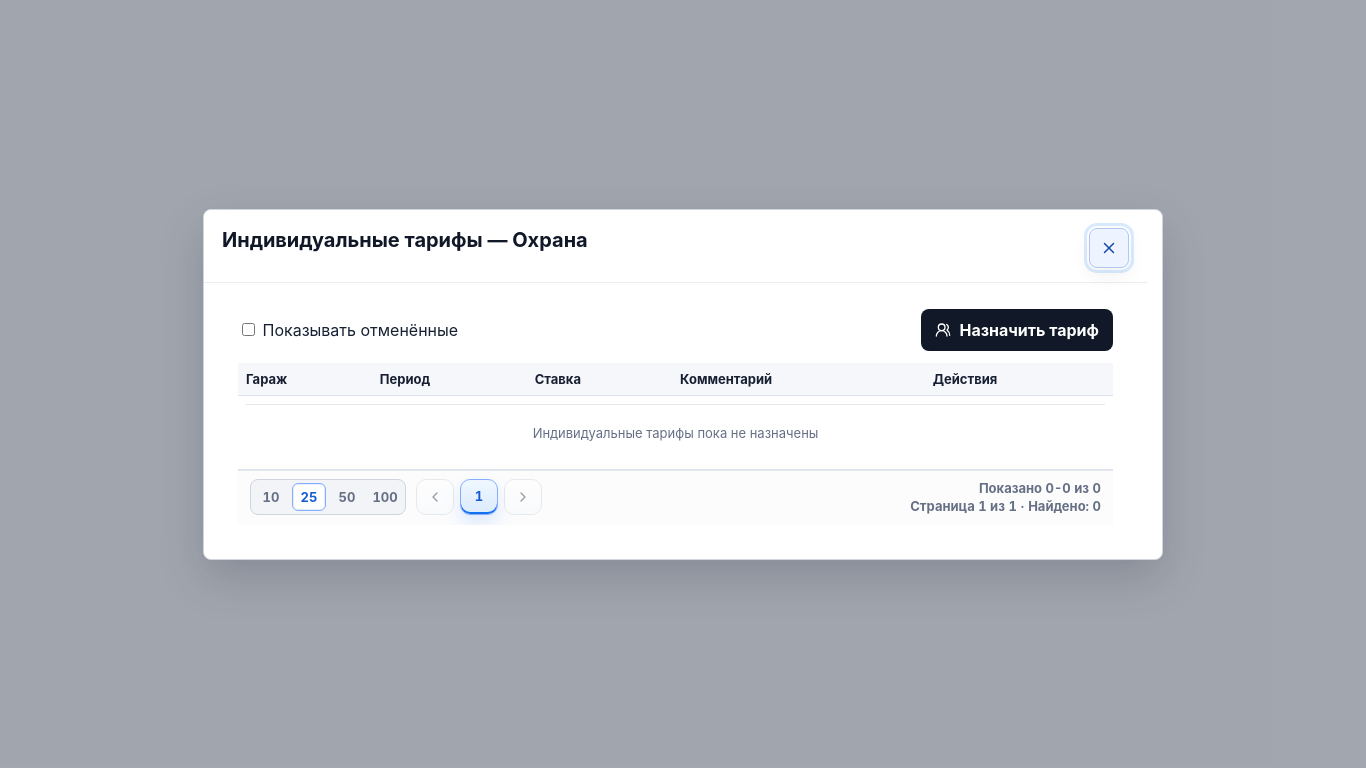
Scenario: removes an off-page selection and refuses to save without a selected garage
Click the button "Назначить тариф": (1017, 330) 921,308 -> 1113,350
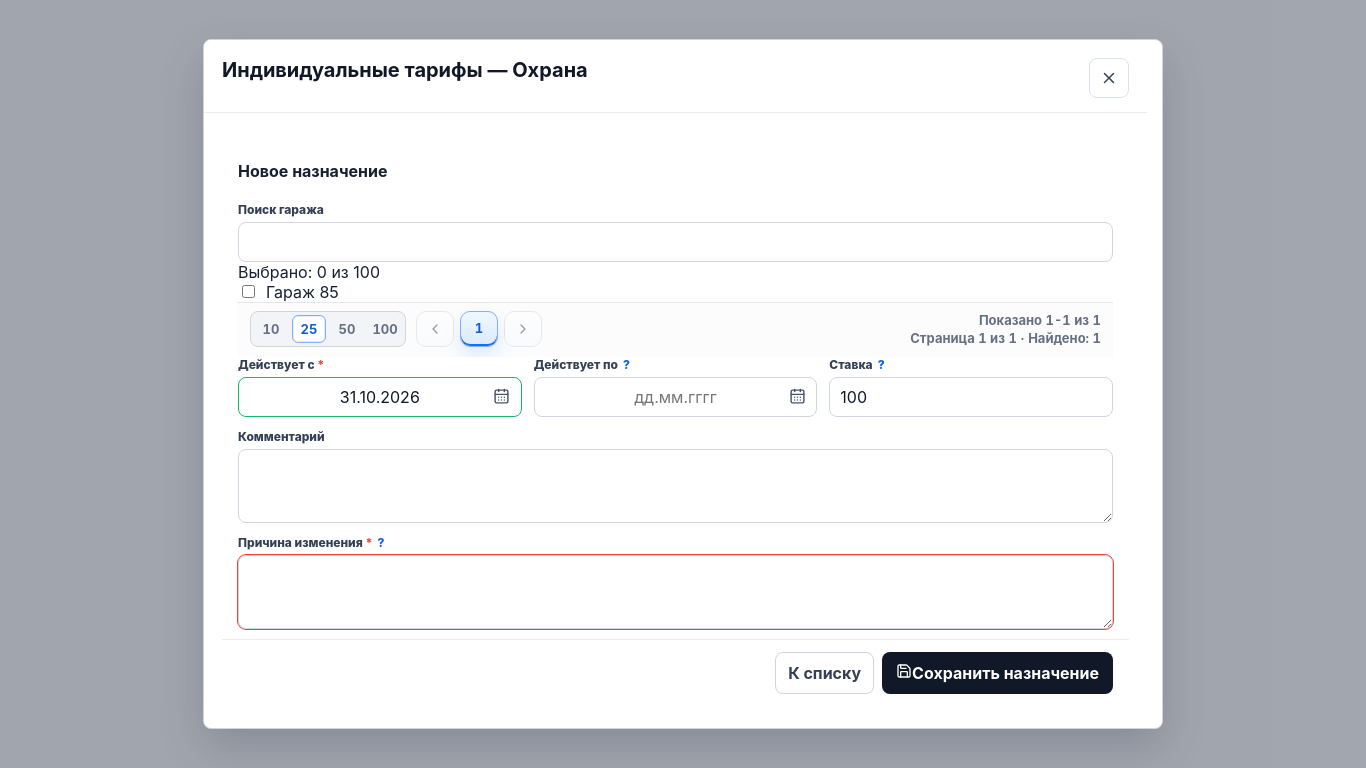
Click the checkbox named "Выбрать гараж 85": (248, 292) 242,285 -> 255,298
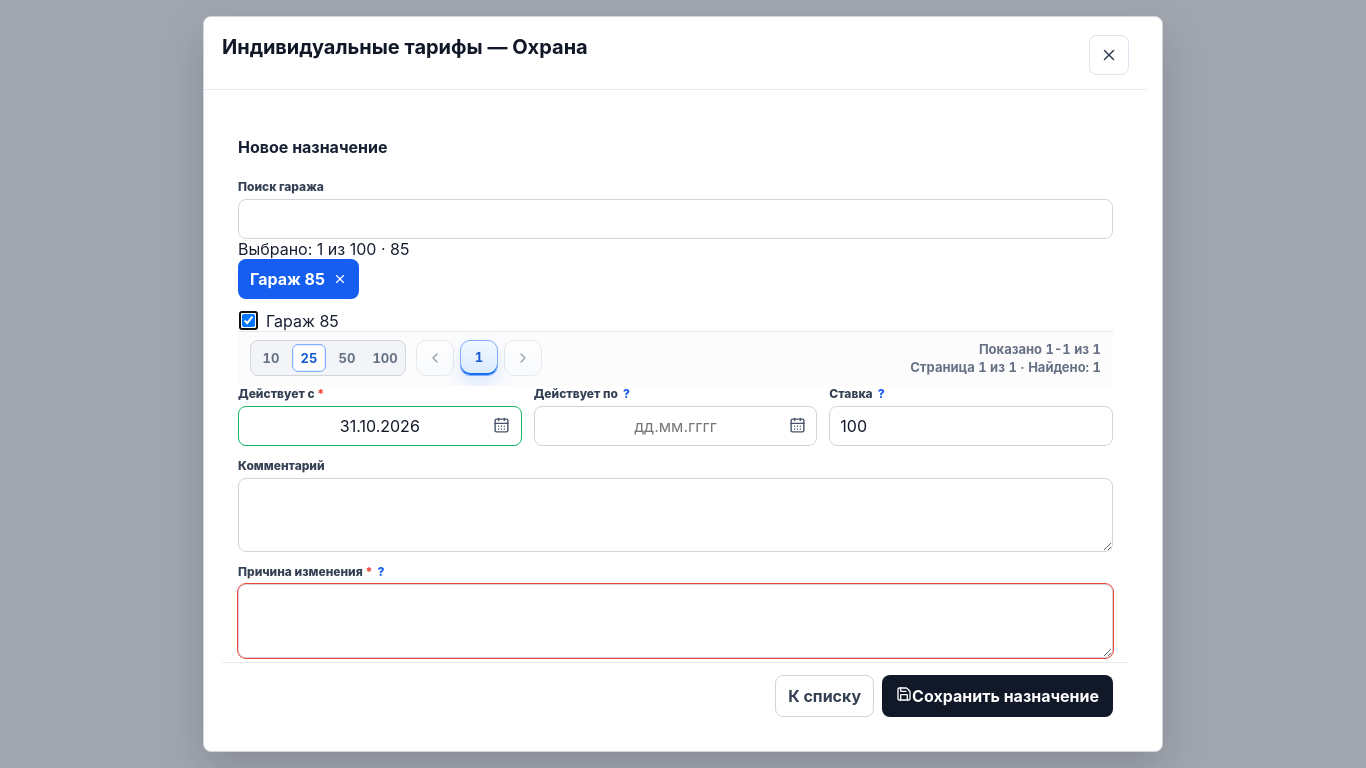
In the field named "Поиск гаража для тарифа": (676, 218) 238,198 -> 1113,238, type "86"
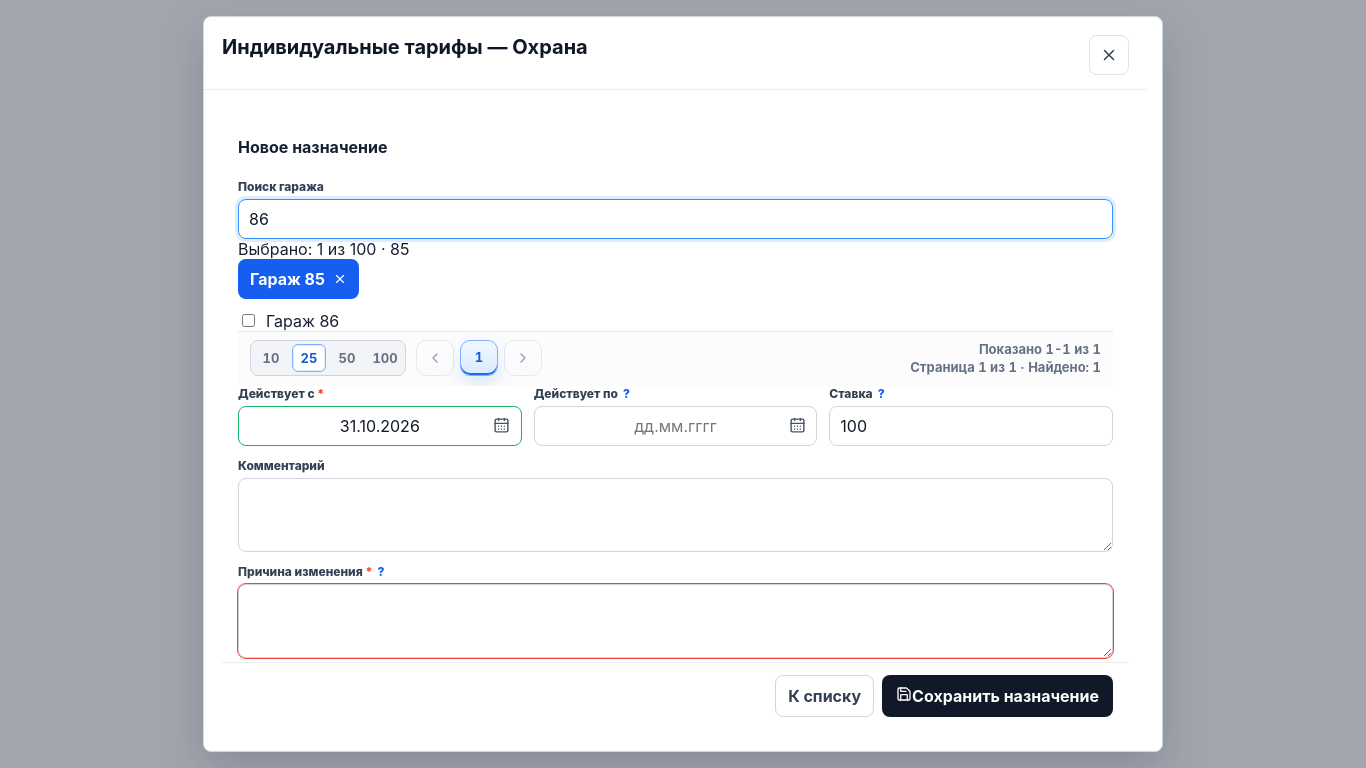
Now the checkbox named "Выбрать гараж 86" is shown, box 242,314 -> 255,327
Click the button with aria-label "Убрать гараж 85 из назначения": (298, 278) 238,258 -> 359,298
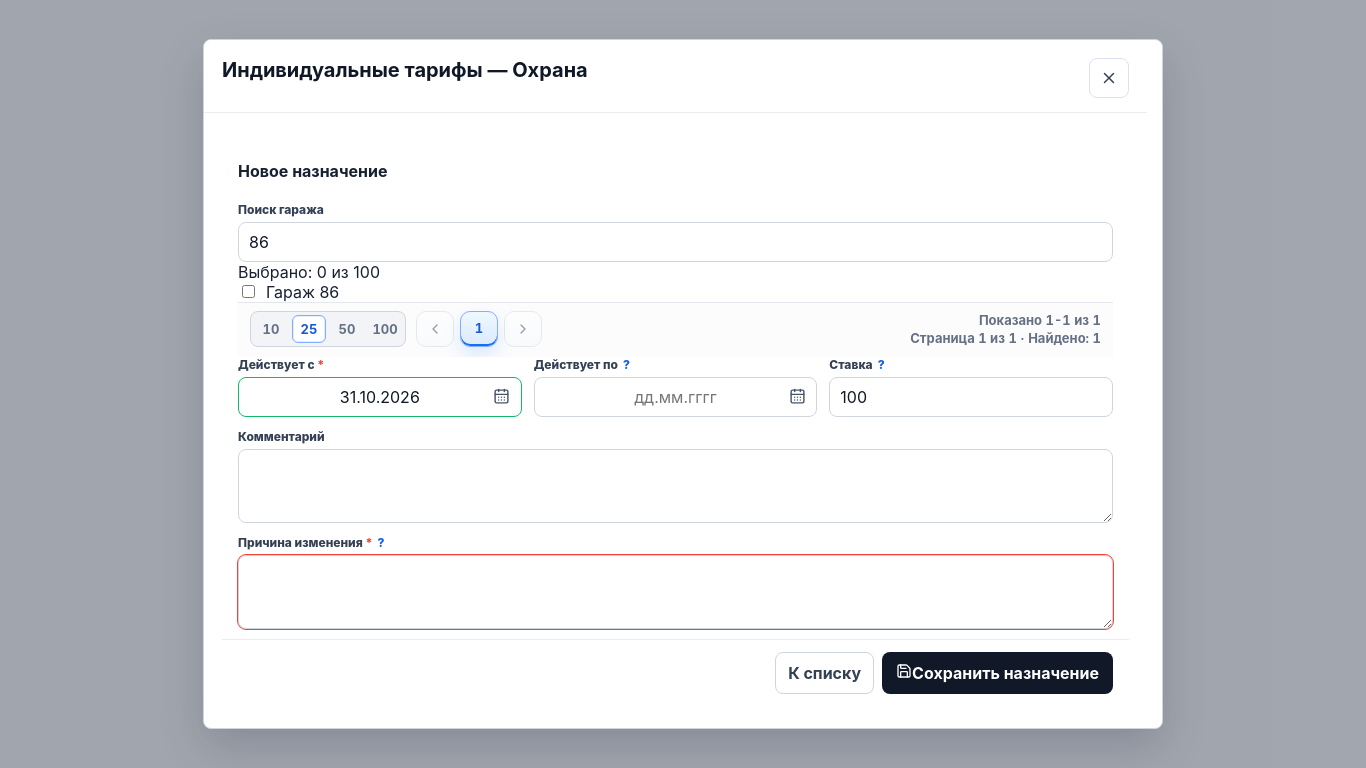
Click the button "Сохранить назначение": (998, 673) 882,652 -> 1113,694
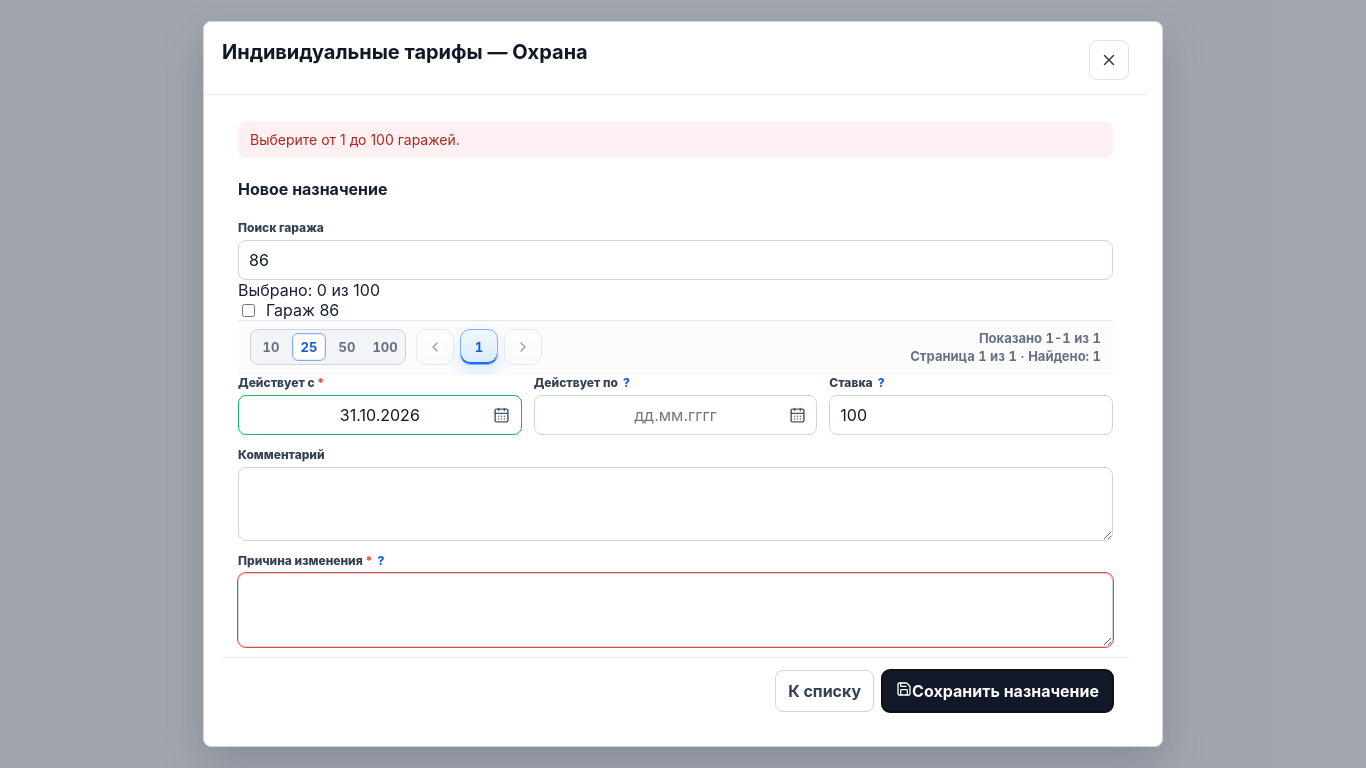
Now the message "Выберите от 1 до 100 гаражей." is shown, box 238,121 -> 1113,158
